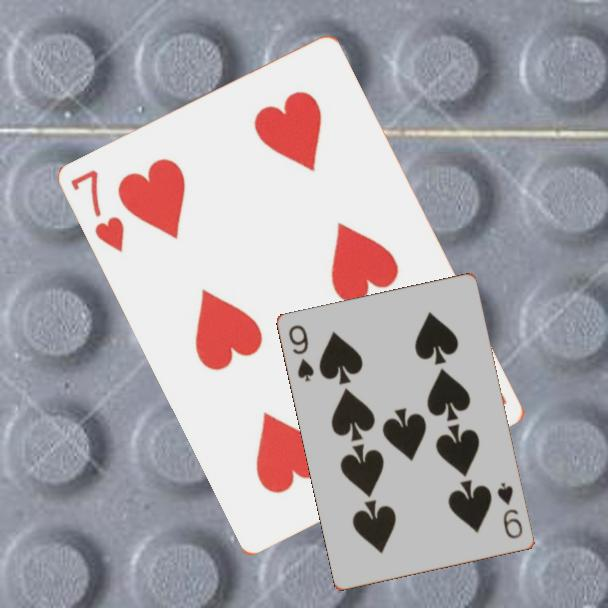h07: (68, 166, 128, 256)
s09: (494, 479, 526, 542), (285, 322, 317, 385)
